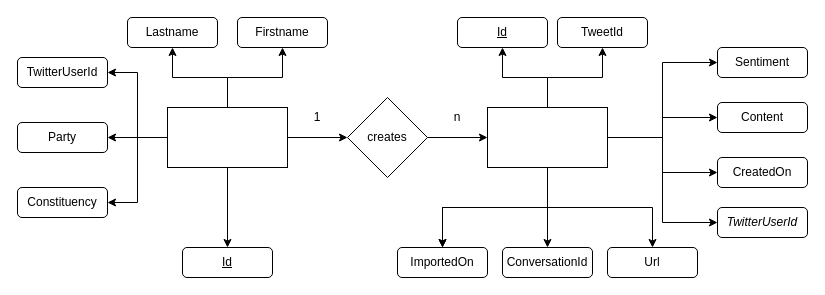
This 825x295 diagram has some shape labels left out. The shapes that lost their labels are listed below. From the top down, each one's centre as x and y in pixels, then its label:
At (x=227, y=137): "Users".
At (x=547, y=137): "Tweets".
